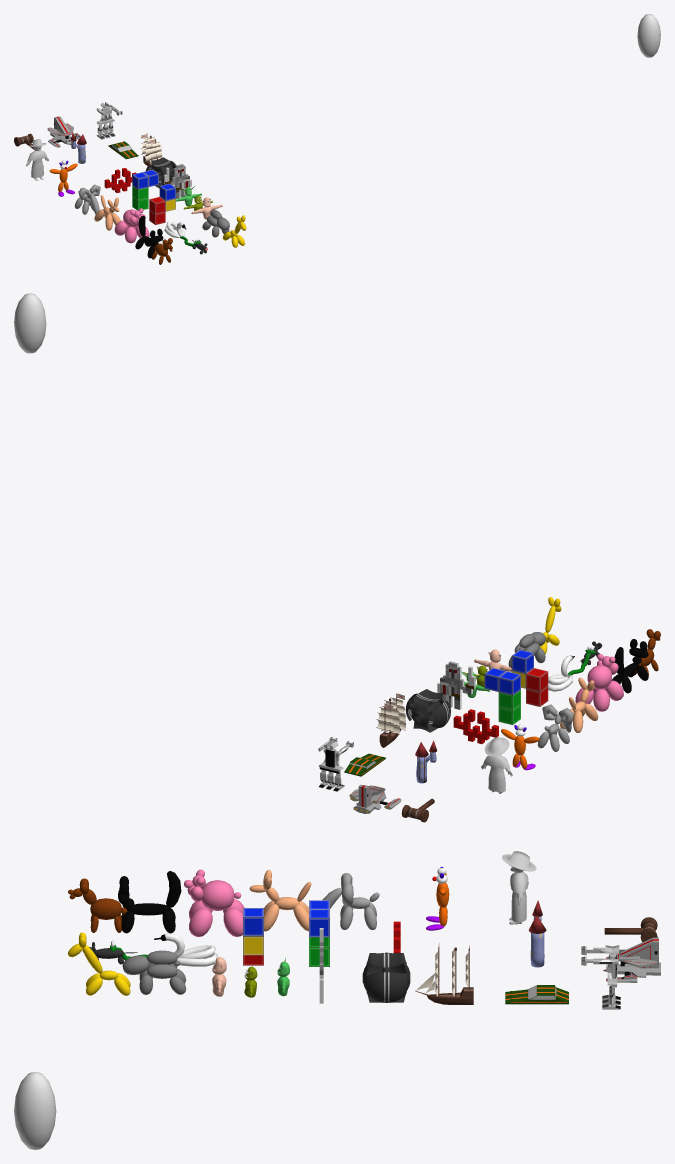
The model's file is cyclops.fbx.
3 views of the same model, one above another, from view 1: azimuth 30°, elevation 25°; view 2: azimuth 150°, elevation 25°; view 3: azimuth 270°, elevation 25° (orthographic). The views are drawn at different scales.
Parts seen in each view (by area): view 1: Sphere, Cube.001, Cube.002, Sphere.004, Cylinder, Cube, Cube.004, Cube.005, Sphere.015, Sphere.001, Sphere.011, Cylinder.002 (+5 smaller); view 2: Sphere, Cube.002, Sphere.004, Sphere.012, Cube.001, Cube.004, Cube.005, Cylinder.002, Sphere.001, Cube, Sphere.015, Cylinder (+2 smaller); view 3: Sphere, Sphere.004, Sphere.012, Sphere.003, Sphere.001, Cylinder, Sphere.011, Cylinder.002, Sphere.015, Cube.005, Cube.002, Sphere.002 (+9 smaller).
Boxes of the visible parts, x1=… form: Sphere: x1=637, y1=14, x2=660, y2=57; Cube.001: x1=149, y1=183, x2=175, y2=224; Cube.002: x1=132, y1=169, x2=158, y2=210; Sphere.004: x1=114, y1=208, x2=149, y2=243; Cylinder: x1=47, y1=116, x2=80, y2=147; Cube: x1=96, y1=102, x2=122, y2=139; Cube.004: x1=164, y1=164, x2=191, y2=198; Cube.005: x1=26, y1=139, x2=48, y2=180; Sphere.015: x1=74, y1=184, x2=100, y2=214; Sphere.001: x1=135, y1=215, x2=163, y2=258; Sphere.011: x1=94, y1=195, x2=120, y2=230; Cylinder.002: x1=141, y1=133, x2=162, y2=166; Sphere: x1=14, y1=293, x2=46, y2=353; Cube.002: x1=484, y1=668, x2=520, y2=724; Sphere.004: x1=575, y1=654, x2=623, y2=711; Sphere.012: x1=405, y1=689, x2=450, y2=732; Cube.001: x1=511, y1=649, x2=548, y2=706; Cube.004: x1=437, y1=661, x2=475, y2=709; Cube.005: x1=481, y1=737, x2=512, y2=793; Cylinder.002: x1=376, y1=693, x2=405, y2=747; Sphere.001: x1=611, y1=639, x2=648, y2=693; Cube: x1=318, y1=737, x2=353, y2=791; Sphere.015: x1=537, y1=704, x2=573, y2=751; Cylinder: x1=349, y1=784, x2=401, y2=813; Sphere: x1=14, y1=1072, x2=56, y2=1149; Sphere.004: x1=184, y1=869, x2=244, y2=937; Sphere.012: x1=362, y1=952, x2=410, y2=1002; Sphere.003: x1=122, y1=950, x2=186, y2=994; Sphere.001: x1=118, y1=871, x2=181, y2=933; Cylinder: x1=603, y1=937, x2=660, y2=982; Sphere.011: x1=249, y1=869, x2=311, y2=931; Cylinder.002: x1=415, y1=943, x2=473, y2=1004; Sphere.015: x1=322, y1=873, x2=379, y2=929; Cube.005: x1=502, y1=851, x2=536, y2=924; Cube.002: x1=309, y1=900, x2=329, y2=966; Sphere.002: x1=68, y1=878, x2=127, y2=932.
Size of the model in its own units: 2413 by 683 by 1527.
